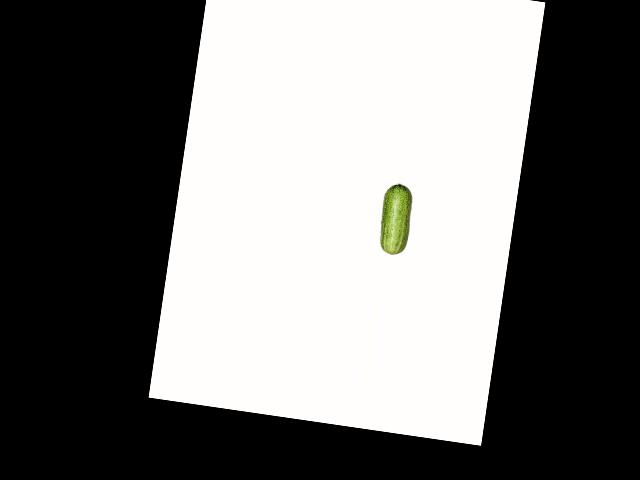cucumber: (376, 181, 415, 256)
